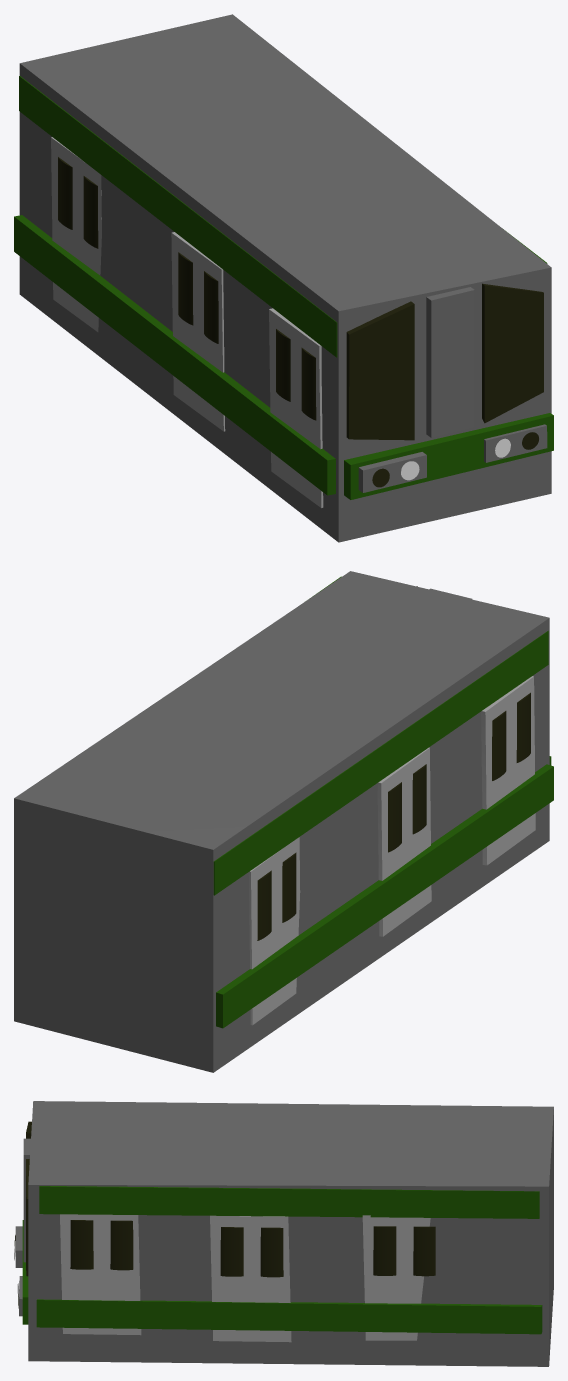
Rendered from SecondTrain.fbx.
3 renders of one model, top to bottom at view 1: azimuth 30°, elevation 25°; view 2: azimuth 150°, elevation 25°; view 3: azimuth 270°, elevation 25°, orthographic. The views are drawn at different scales.
Visible parts, largest first — view 1: polySurface20; view 2: polySurface20; view 3: polySurface20.
Part boxes in pixels (left/top/right/bottom): polySurface20: left=14, top=14, right=553, bottom=542; polySurface20: left=14, top=571, right=553, bottom=1072; polySurface20: left=14, top=1101, right=553, bottom=1366.
Bounding box in the file's own units: 0.0546 × 0.0508 × 0.1378.
